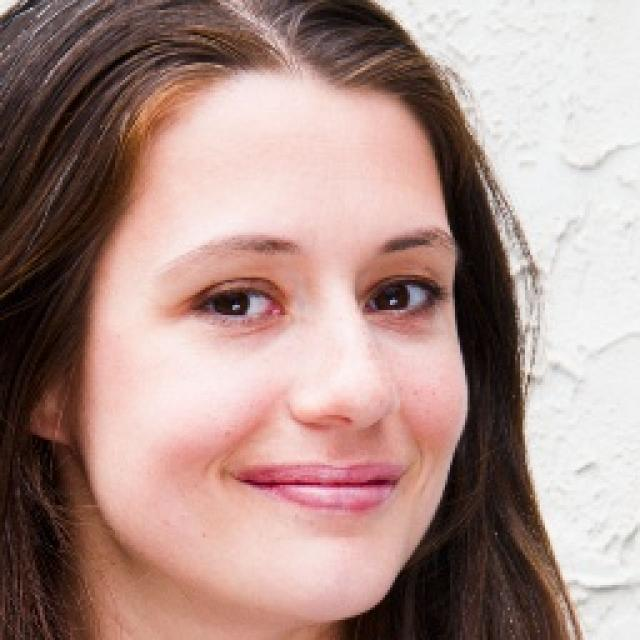earlobe: (27, 388, 72, 447)
eye: (198, 275, 286, 330), (364, 272, 449, 324)
nose: (281, 409, 403, 456)
